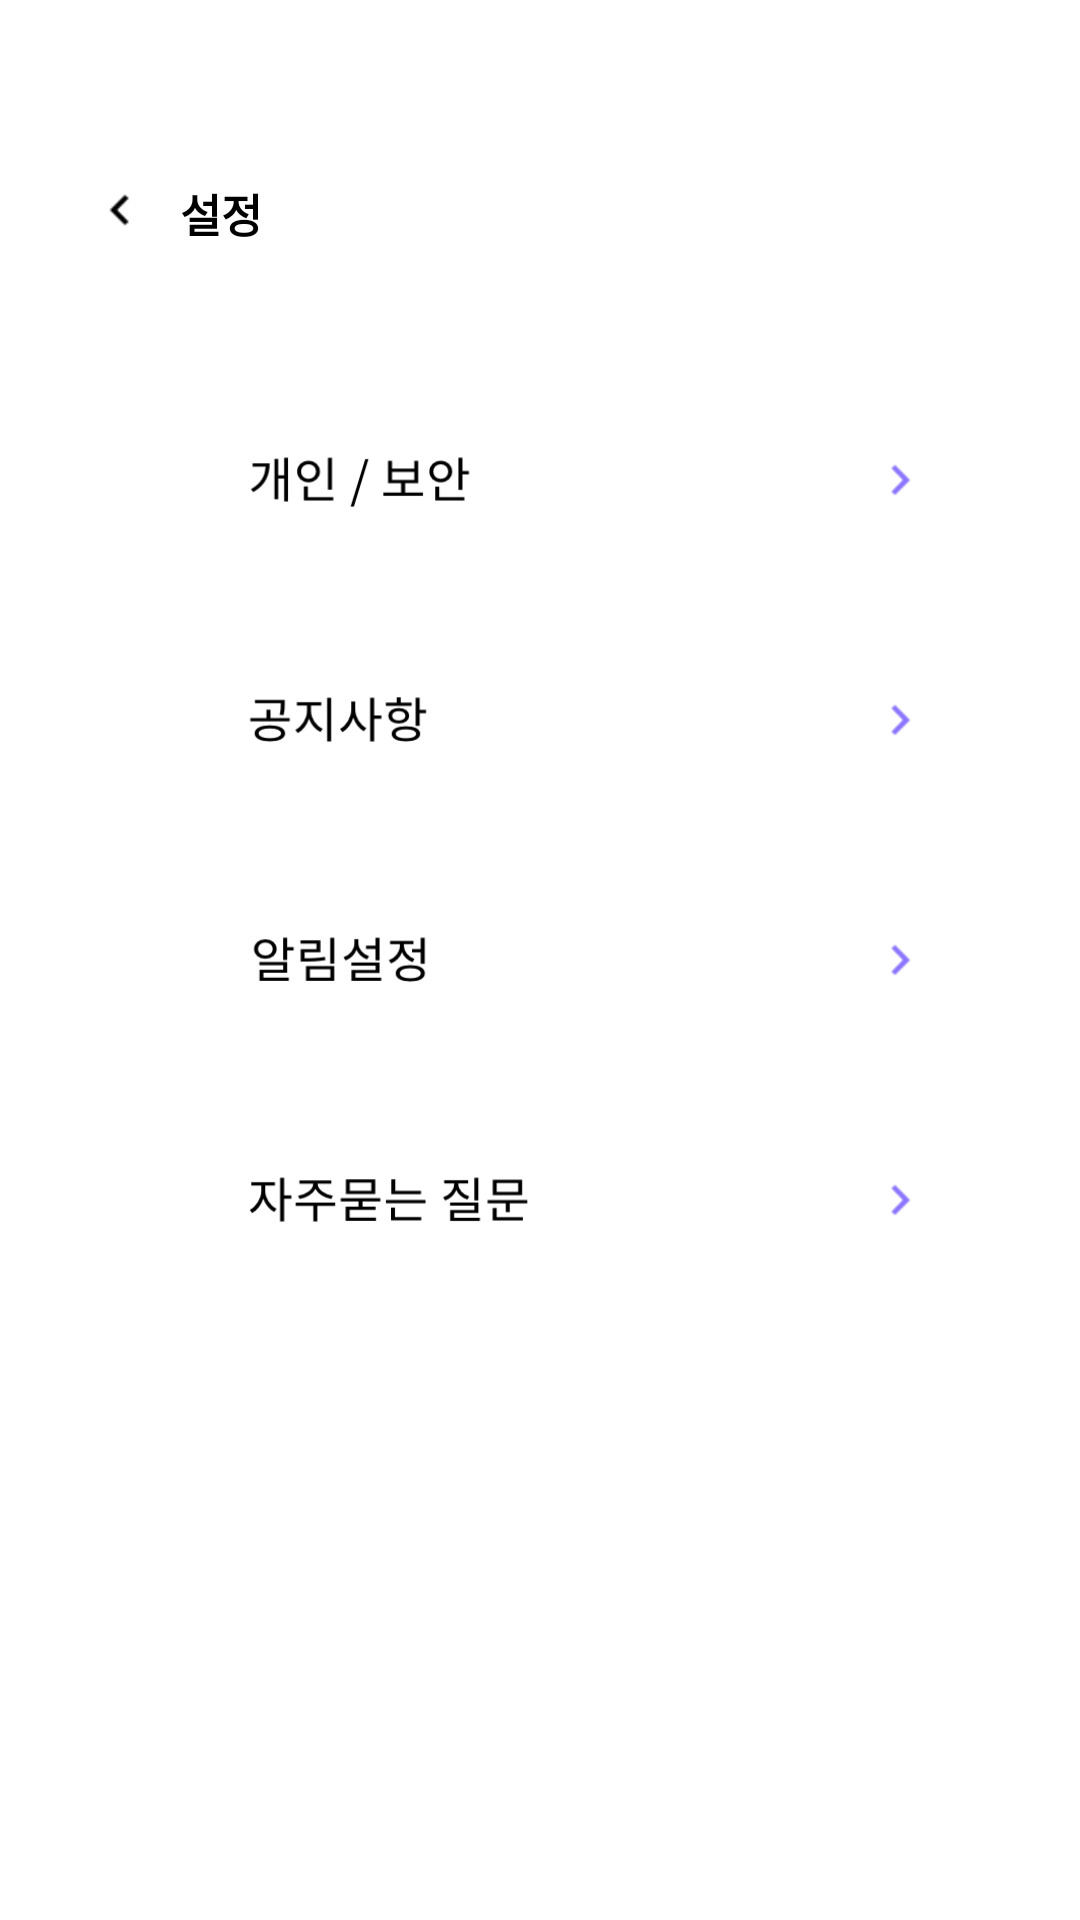

Icons on this 1080px x 1920px Android screen, each with its box as (x1, y1, x2, y2):
iconblackleft: (109, 194, 129, 226)
right: (891, 465, 910, 495), (891, 705, 910, 735), (891, 945, 910, 975), (891, 1185, 910, 1215)
